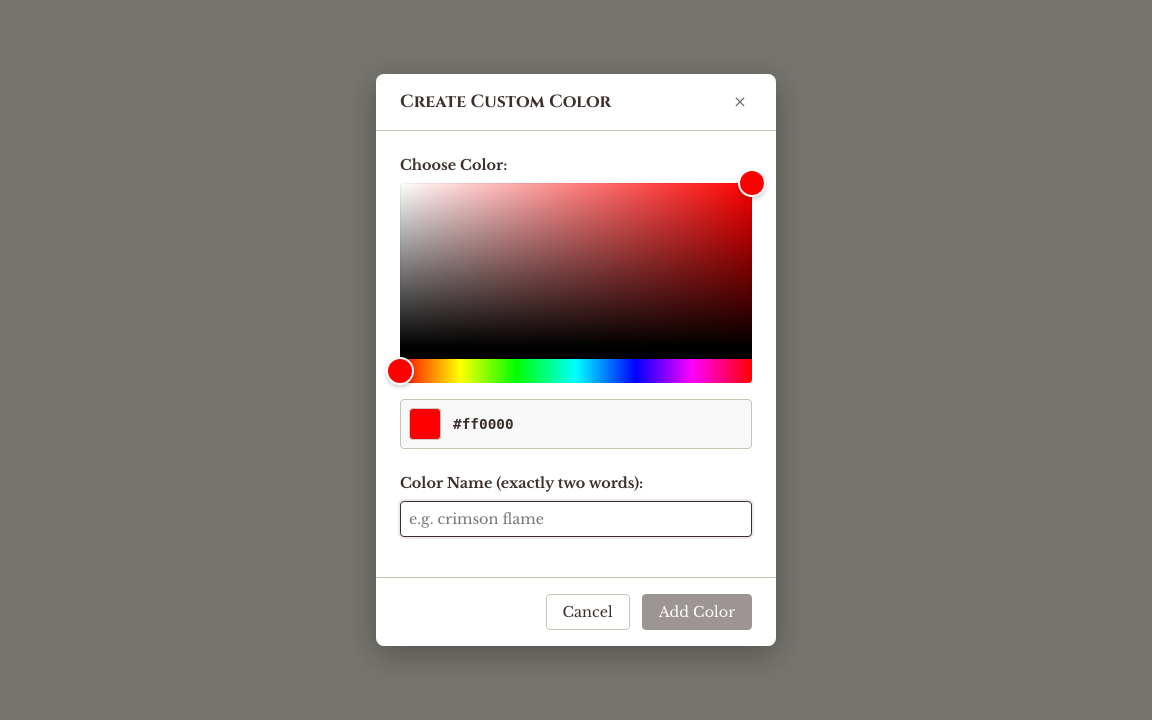
Scenario: CustomColorCreator › shows error for invalid name format
// Test single word - error should appear when trying to add
Type "red" into the field with placeholder "e.g. crimson flame" at (576, 520), box [400,502,752,538]
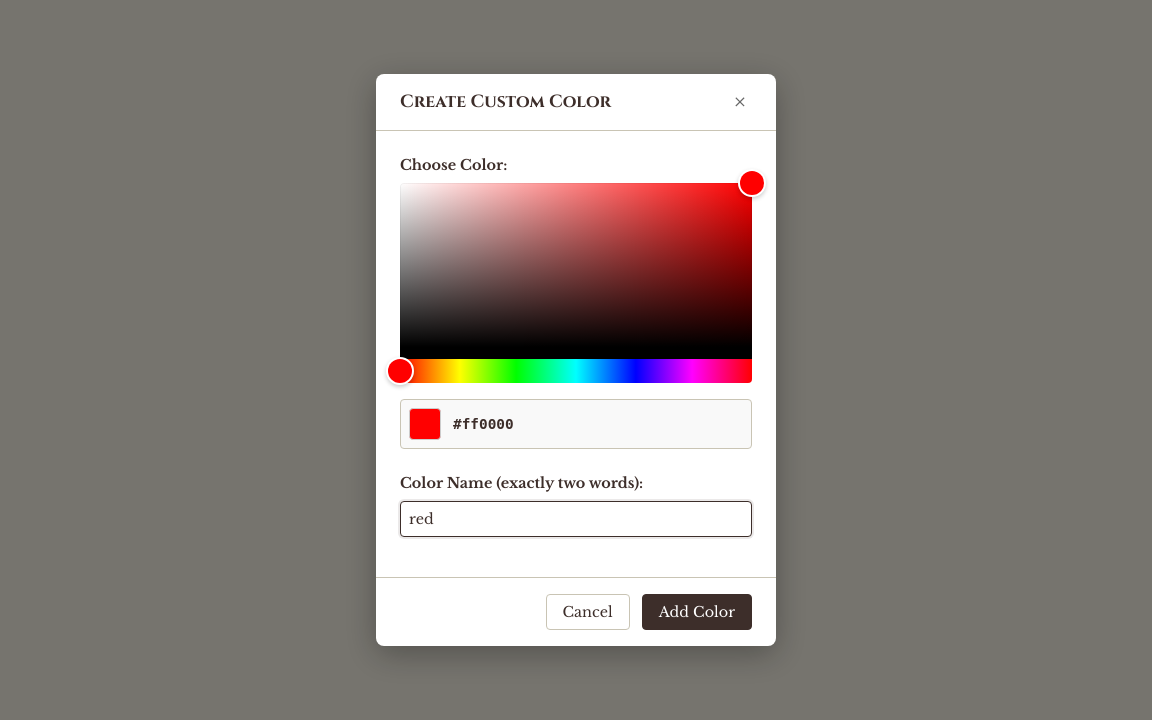
Click the button "Add Color" at (697, 612), box [642,594,752,630]
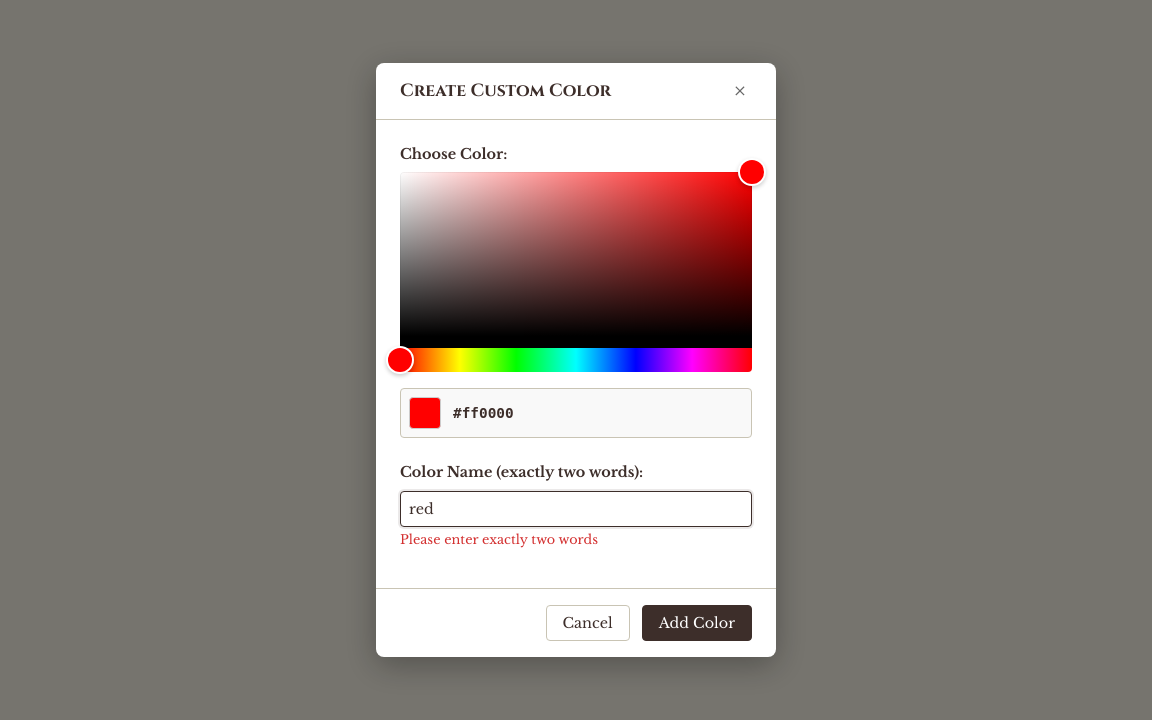
Expected: the text "Please enter exactly two words" is shown, [400,532,598,546]
// Test three words - error should appear when trying to add
Replace the text in the field with placeholder "e.g. crimson flame" with "bright red color" at (576, 508), box [400,490,752,526]
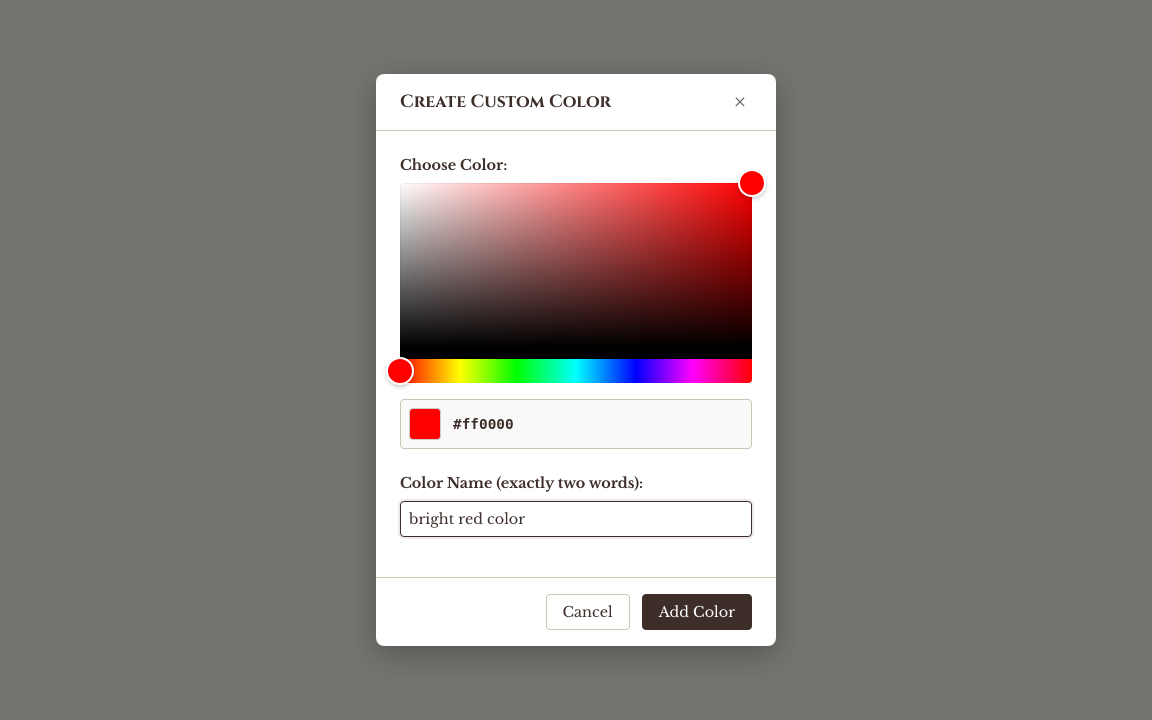
Click the button "Add Color" at (697, 612), box [642,594,752,630]
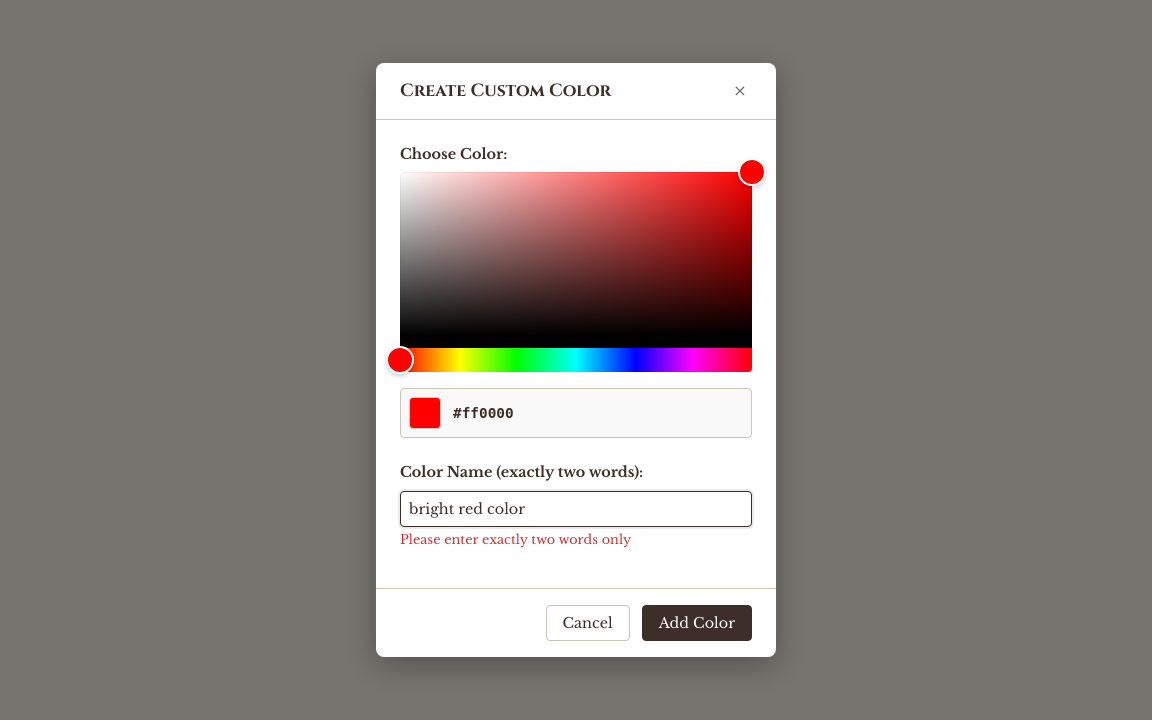
Expected: the text "Please enter exactly two words only" is shown, [400,532,631,546]
// Test button is disabled when empty
Clear the field with placeholder "e.g. crimson flame" at (576, 508), box [400,490,752,526]
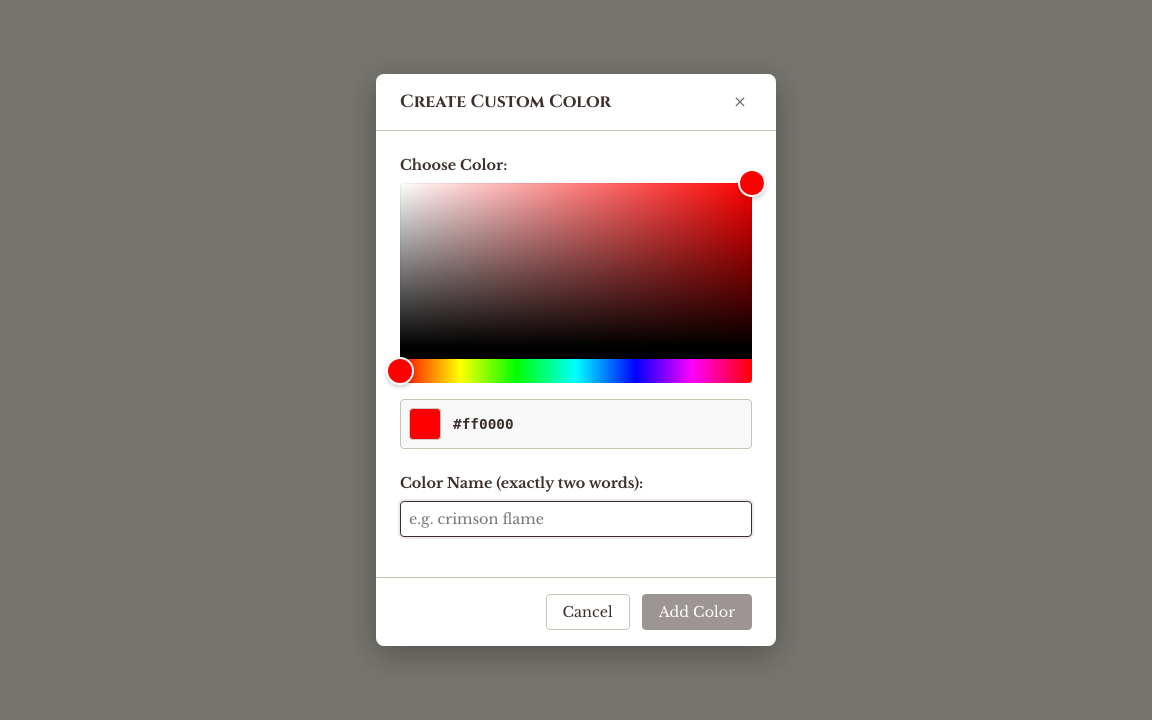
Expected: the button "Add Color" is disabled, [642,594,752,630]
